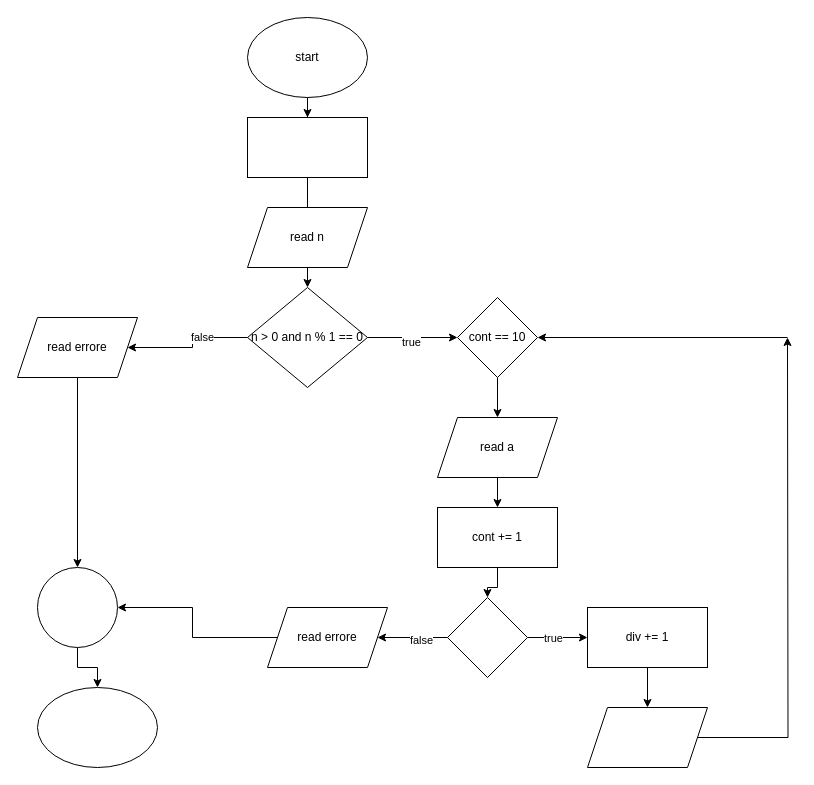
This 814x785 diagram has some shape labels left out. The centre of each missing label's shape, as x and y in pixels:
"a % n == 0" goes at point 487,637.
"end" goes at point 97,727.
"n = 0 div = 0 cont = 0 a = 0" goes at point 307,147.
"read div" goes at point 647,737.
